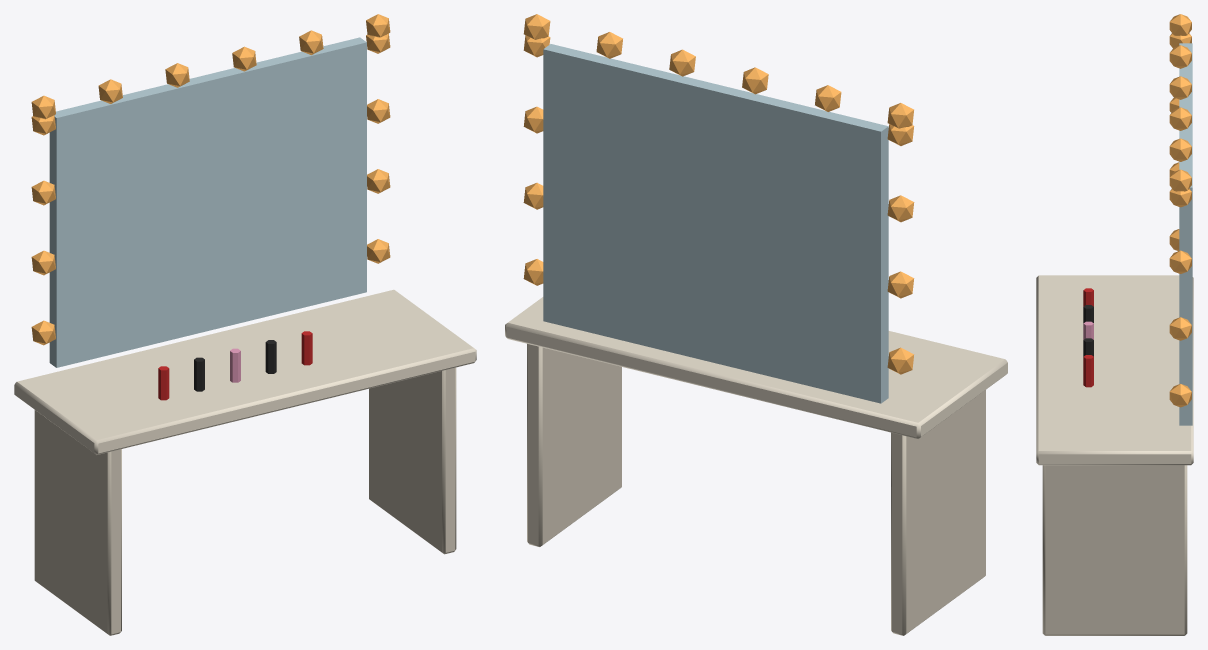
Rendered from makeup_mirror_desk.glb.
The picture shows the model from 3 angles, left to right: view 1: azimuth 30°, elevation 25°; view 2: azimuth 150°, elevation 25°; view 3: azimuth 270°, elevation 25°; orthographic projection. The views are drawn at different scales.
Parts seen in each view (by area): view 1: makeup_mirror_desk; view 2: makeup_mirror_desk; view 3: makeup_mirror_desk.
Boxes of the visible parts, x1,y1,x2,y2 form: makeup_mirror_desk: (14, 14, 476, 635); makeup_mirror_desk: (505, 14, 1007, 635); makeup_mirror_desk: (1036, 14, 1193, 635).
Bounding box in the file's own units: 1.6 × 1.95 × 0.6.
